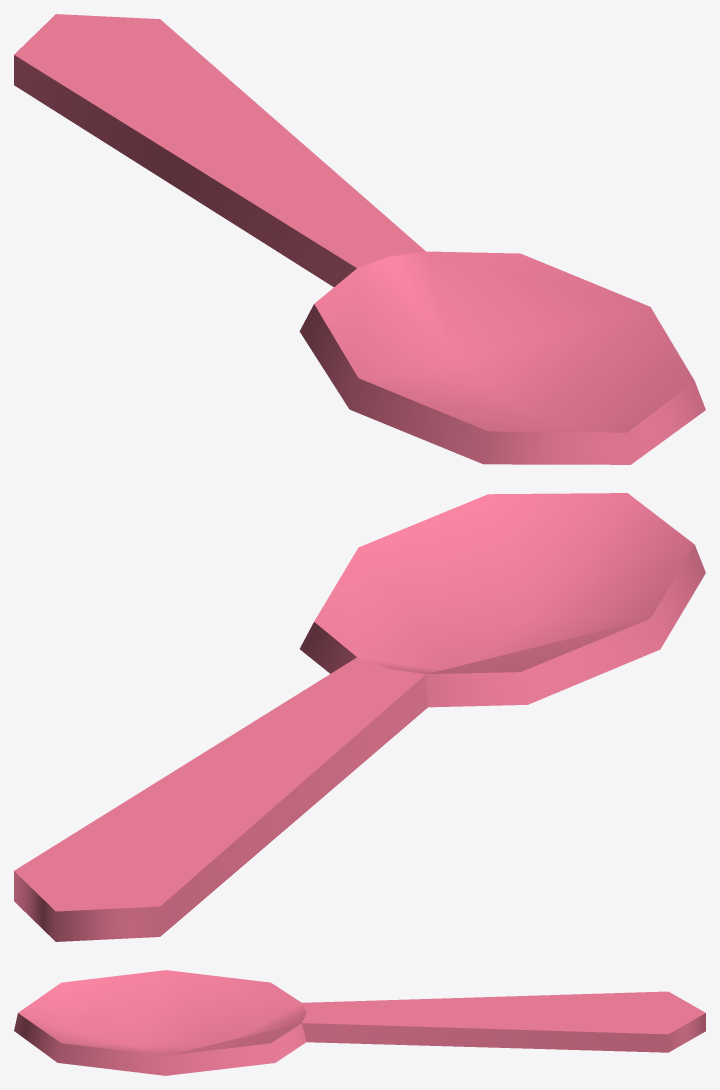
The model's file is Spoon_geo.fbx.
The picture shows the model from 3 angles, top to bottom: view 1: azimuth 30°, elevation 25°; view 2: azimuth 150°, elevation 25°; view 3: azimuth 270°, elevation 25°; orthographic projection. The views are drawn at different scales.
Visible parts, largest first — view 1: Spoon_geo; view 2: Spoon_geo; view 3: Spoon_geo.
Boxes of the visible parts, box(x1,y1,x2,y2) form: Spoon_geo: box(14, 14, 705, 464); Spoon_geo: box(14, 493, 705, 941); Spoon_geo: box(14, 970, 705, 1075).
Bounding box in the file's own units: 0.2332 × 0.7472 × 0.0605.
